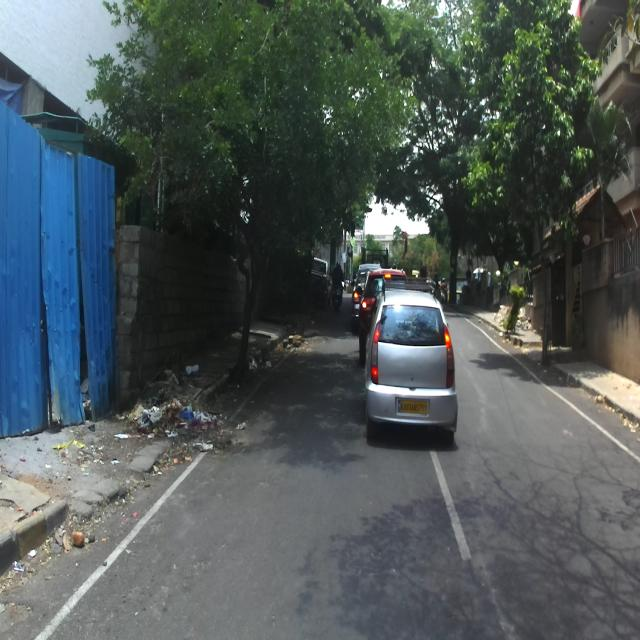car ahead at: (368, 281, 462, 447)
